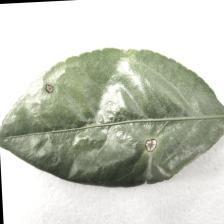canker: (43, 77, 162, 156)
